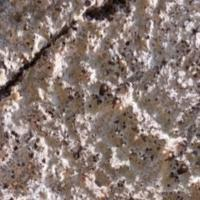crack: (2, 2, 136, 86)
